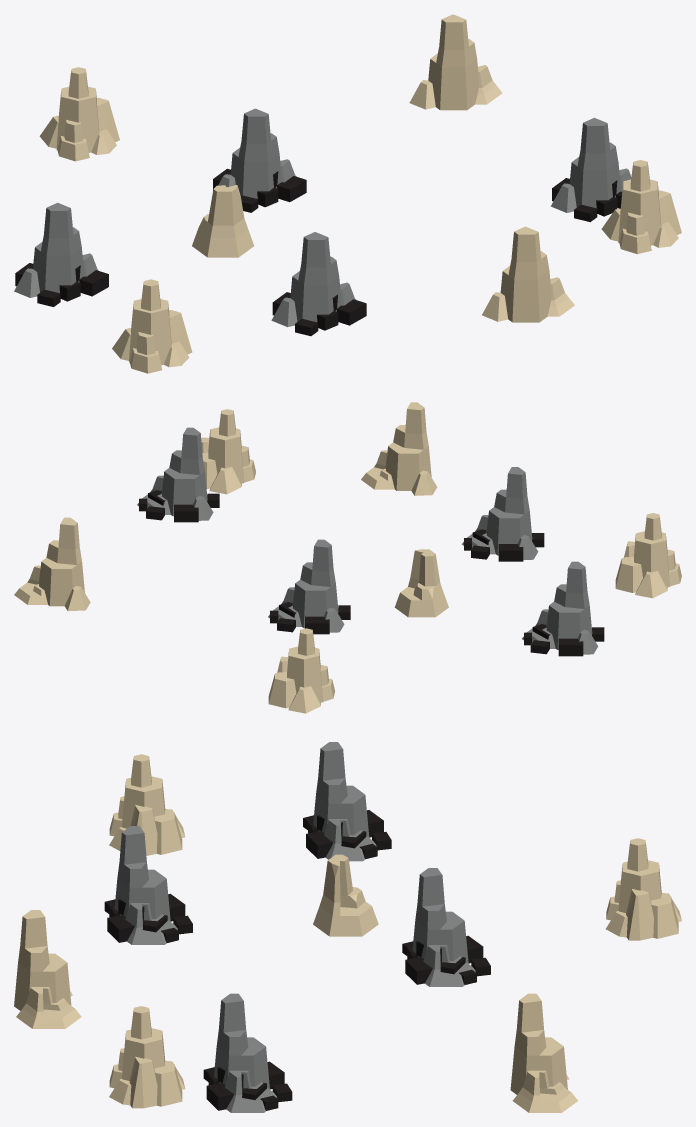
The model's file is gisement_de_charbon.glb.
3 views of the same model, one above another, from view 1: azimuth 30°, elevation 25°; view 2: azimuth 150°, elevation 25°; view 3: azimuth 270°, elevation 25° (orthographic). The views are drawn at different scales.
Parts seen in each view (by area): view 1: mergedBlocks(Clone); view 2: mergedBlocks(Clone); view 3: mergedBlocks(Clone).
Boxes of the visible parts, x1,y1,x2,y2 form: mergedBlocks(Clone): (14, 14, 681, 373); mergedBlocks(Clone): (14, 402, 681, 713); mergedBlocks(Clone): (14, 742, 681, 1112).
Bounding box in the file's own units: 6.98 × 0.9959 × 6.73.
Materials: 1 (1 with a texture image).
